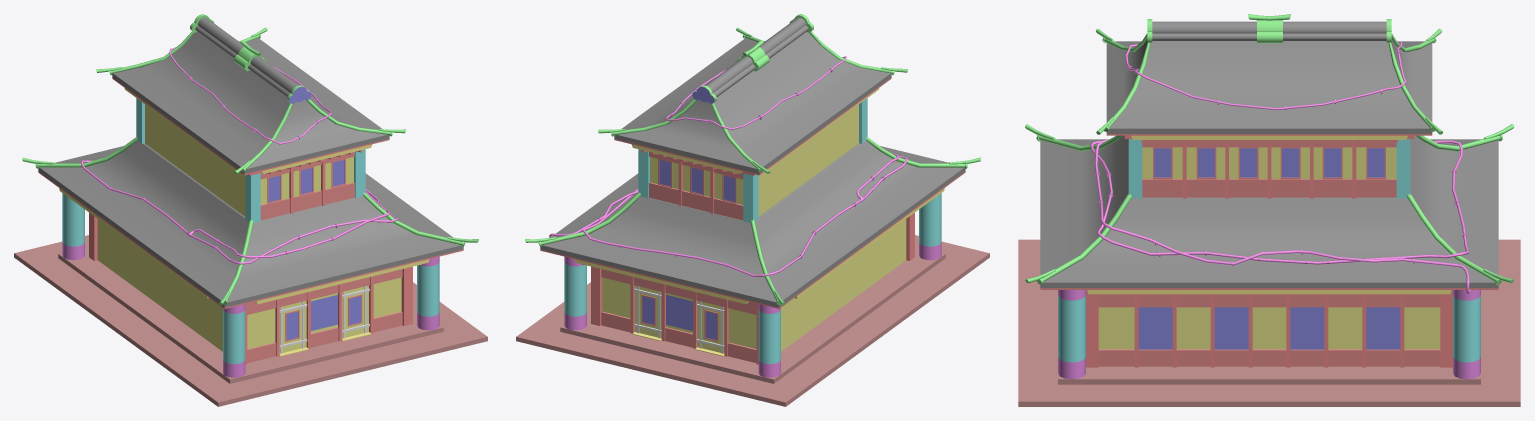
File: SM_ENV_LKNVLD_Building_A.gltf
3 renders of one model, left to right at view 1: azimuth 30°, elevation 25°; view 2: azimuth 150°, elevation 25°; view 3: azimuth 270°, elevation 25°, orthographic. The views are drawn at different scales.
Visible parts, largest first — view 1: SM_ENV_LKNVLD_Building_A; view 2: SM_ENV_LKNVLD_Building_A; view 3: SM_ENV_LKNVLD_Building_A.
Part boxes in pixels (x1,y1,x2,y2): SM_ENV_LKNVLD_Building_A: (14,14,487,406); SM_ENV_LKNVLD_Building_A: (516,14,989,406); SM_ENV_LKNVLD_Building_A: (1018,14,1520,406).
Size of the model in its own units: 19.3 by 17.3 by 25.3.
